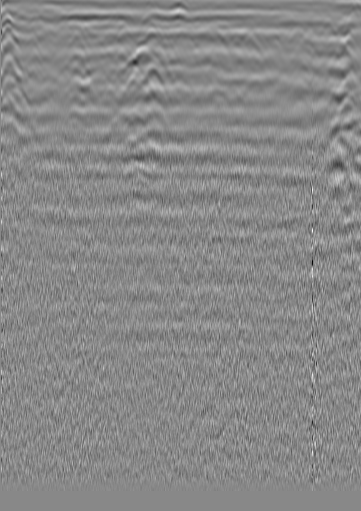가스: (127, 120, 167, 164)
상수: (300, 16, 320, 36)
오수: (26, 26, 46, 46)
우수: (171, 21, 191, 41)
